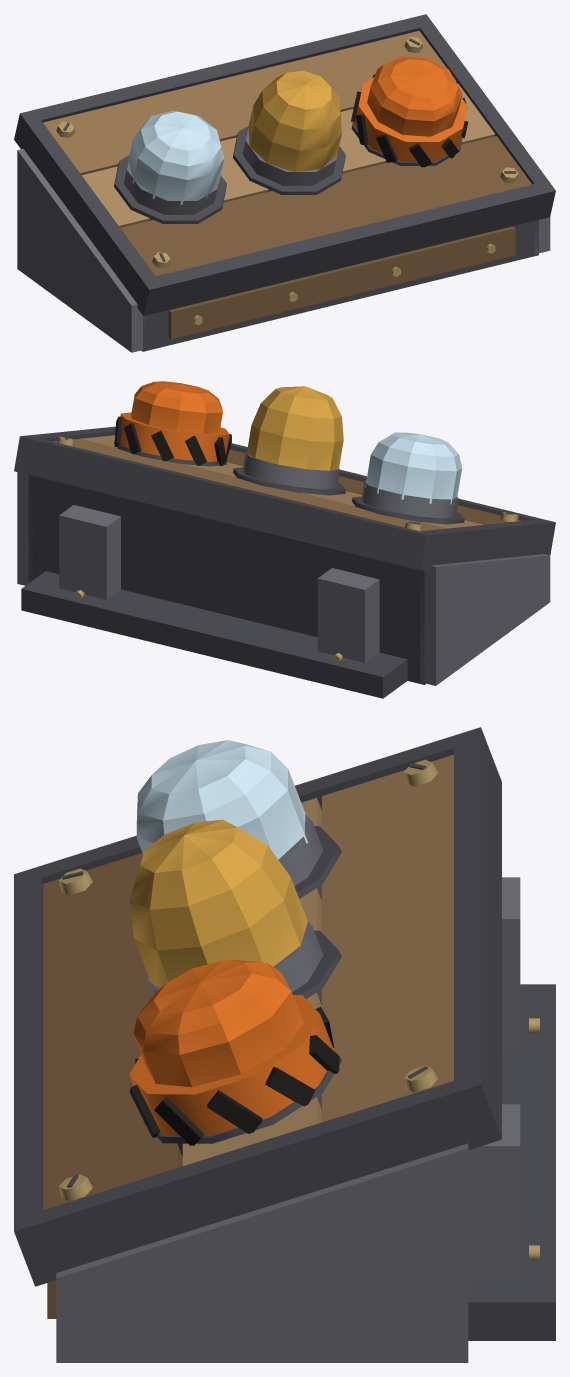
Rendered from Buton Konsolu 1.fbx.
3 views of the same model, one above another, from view 1: azimuth 30°, elevation 25°; view 2: azimuth 150°, elevation 25°; view 3: azimuth 270°, elevation 25° (orthographic). The views are drawn at different scales.
Visible parts, largest first — view 1: panel_plank_3, trim_front, panel_plank_1, side_cheek_l, front_wood_strip, button_straw_cap, button_frost_cap, trim_back, trim_left, button_hazard_cap, panel_plank_2, console_body (+7 smaller); view 2: console_body, trim_back, mount_lip, side_cheek_l, button_straw_cap, mount_bracket_l, button_frost_cap, mount_bracket_r, trim_left, button_hazard_cap, panel_plank_1, hazard_ring (+10 smaller); view 3: side_cheek_r, panel_plank_1, panel_plank_3, trim_right, button_straw_cap, trim_back, mount_lip, button_hazard_cap, button_frost_cap, trim_front, hazard_ring, mount_bracket_r (+11 smaller).
Part boxes in pixels (x1=…): panel_plank_3: x1=120, y1=136, x2=531, y2=276; trim_front: x1=137, y1=180, x2=555, y2=315; panel_plank_1: x1=43, y1=30, x2=456, y2=175; side_cheek_l: x1=17, y1=148, x2=147, y2=352; front_wood_strip: x1=168, y1=226, x2=515, y2=339; button_straw_cap: x1=248, y1=70, x2=341, y2=171; button_frost_cap: x1=127, y1=110, x2=224, y2=204; trim_back: x1=14, y1=14, x2=433, y2=148; trim_left: x1=22, y1=120, x2=155, y2=302; button_hazard_cap: x1=367, y1=56, x2=462, y2=136; panel_plank_2: x1=82, y1=83, x2=495, y2=227; console_body: x1=141, y1=220, x2=538, y2=351; console_body: x1=28, y1=475, x2=425, y2=684; trim_back: x1=14, y1=435, x2=433, y2=570; mount_lip: x1=21, y1=571, x2=407, y2=698; side_cheek_l: x1=420, y1=554, x2=550, y2=685; button_straw_cap: x1=247, y1=386, x2=343, y2=470; mount_bracket_l: x1=317, y1=568, x2=379, y2=662; button_frost_cap: x1=365, y1=432, x2=462, y2=504; mount_bracket_r: x1=59, y1=505, x2=120, y2=599; trim_left: x1=421, y1=519, x2=548, y2=569; button_hazard_cap: x1=131, y1=381, x2=222, y2=433; panel_plank_1: x1=53, y1=439, x2=444, y2=530; hazard_ring: x1=120, y1=412, x2=229, y2=462; side_cheek_r: x1=56, y1=1143, x2=468, y2=1362; panel_plank_1: x1=322, y1=754, x2=453, y2=1122; panel_plank_3: x1=43, y1=853, x2=182, y2=1209; trim_right: x1=41, y1=1081, x2=474, y2=1271; button_straw_cap: x1=129, y1=819, x2=307, y2=987; trim_back: x1=454, y1=727, x2=501, y2=1147; mount_lip: x1=468, y1=984, x2=555, y2=1340; button_hazard_cap: x1=133, y1=960, x2=303, y2=1087; button_frost_cap: x1=136, y1=740, x2=307, y2=859; trim_front: x1=14, y1=866, x2=59, y2=1286; hazard_ring: x1=129, y1=995, x2=334, y2=1135; mount_bracket_r: x1=468, y1=1104, x2=520, y2=1277.
Bounding box in the file's own units: 48.6 × 21.63 × 30.26.
